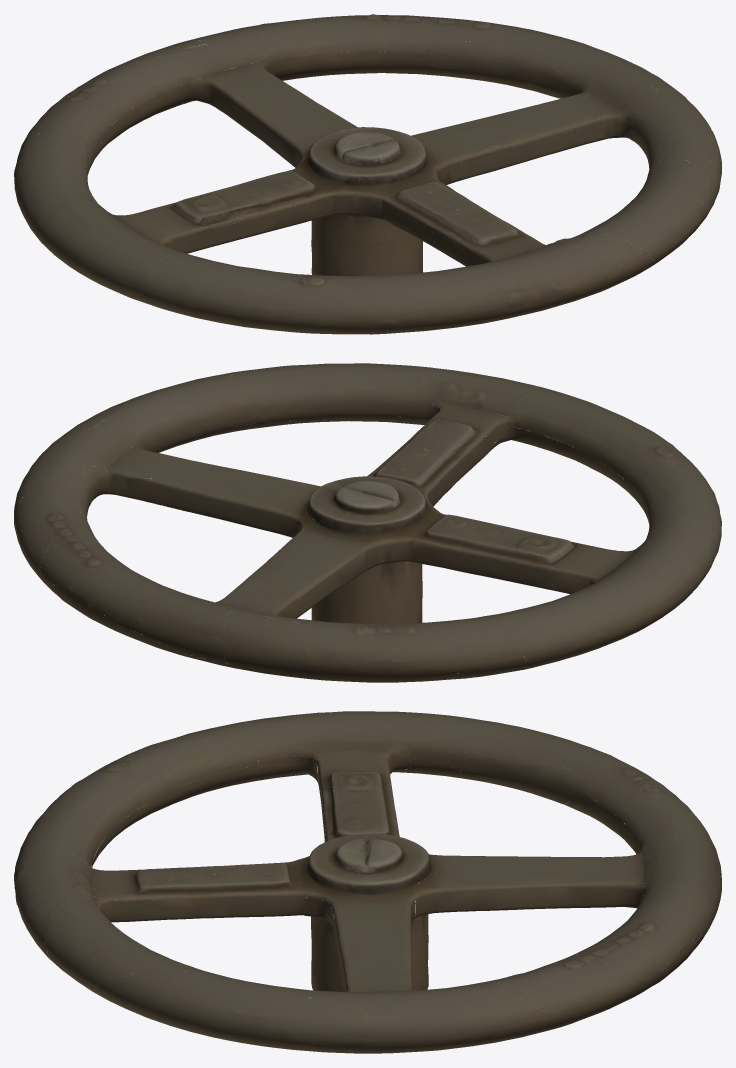
The model's file is wheelright.glb.
The picture shows the model from 3 angles, top to bottom: view 1: azimuth 30°, elevation 25°; view 2: azimuth 150°, elevation 25°; view 3: azimuth 270°, elevation 25°; orthographic projection. The views are drawn at different scales.
Visible parts, largest first — view 1: tripo_node_d688b978-2437-49b7-ad79-9fda03560351.002; view 2: tripo_node_d688b978-2437-49b7-ad79-9fda03560351.002; view 3: tripo_node_d688b978-2437-49b7-ad79-9fda03560351.002.
Boxes of the visible parts, <box> form: tripo_node_d688b978-2437-49b7-ad79-9fda03560351.002: <box>14,14,721,334</box>; tripo_node_d688b978-2437-49b7-ad79-9fda03560351.002: <box>14,363,721,682</box>; tripo_node_d688b978-2437-49b7-ad79-9fda03560351.002: <box>14,711,721,1053</box>.
Size of the model in its own units: 1.18 by 0.2441 by 1.12.
1 material, 1 textured.
